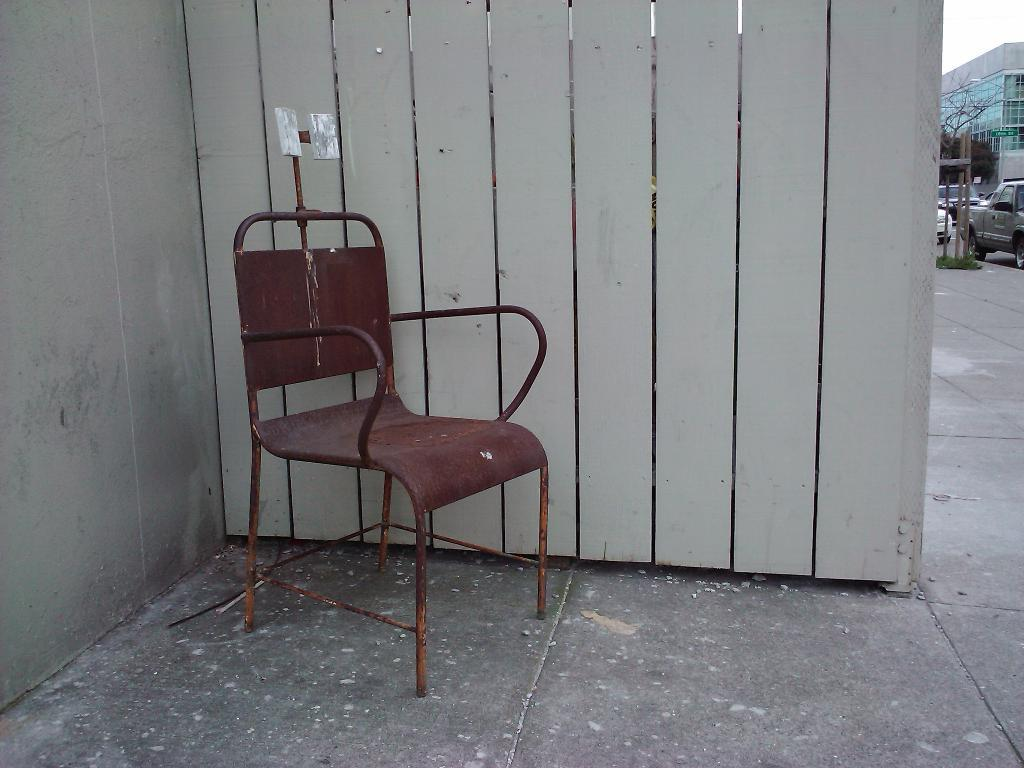Chair: (212, 178, 557, 675)
